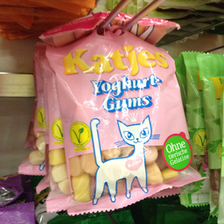candy: (46, 28, 207, 216)
